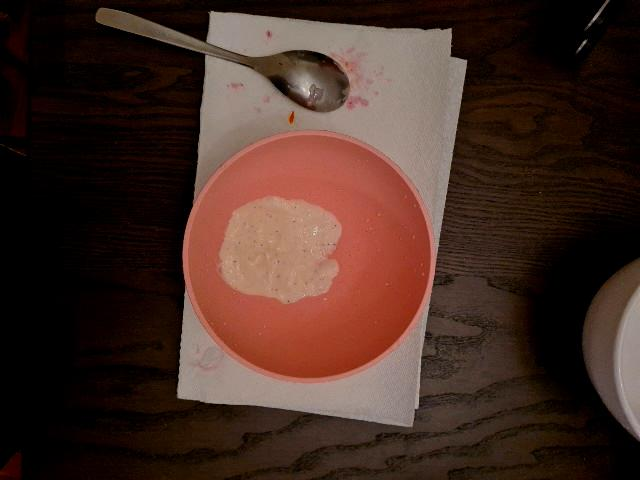kichen waste: (219, 196, 341, 303)
